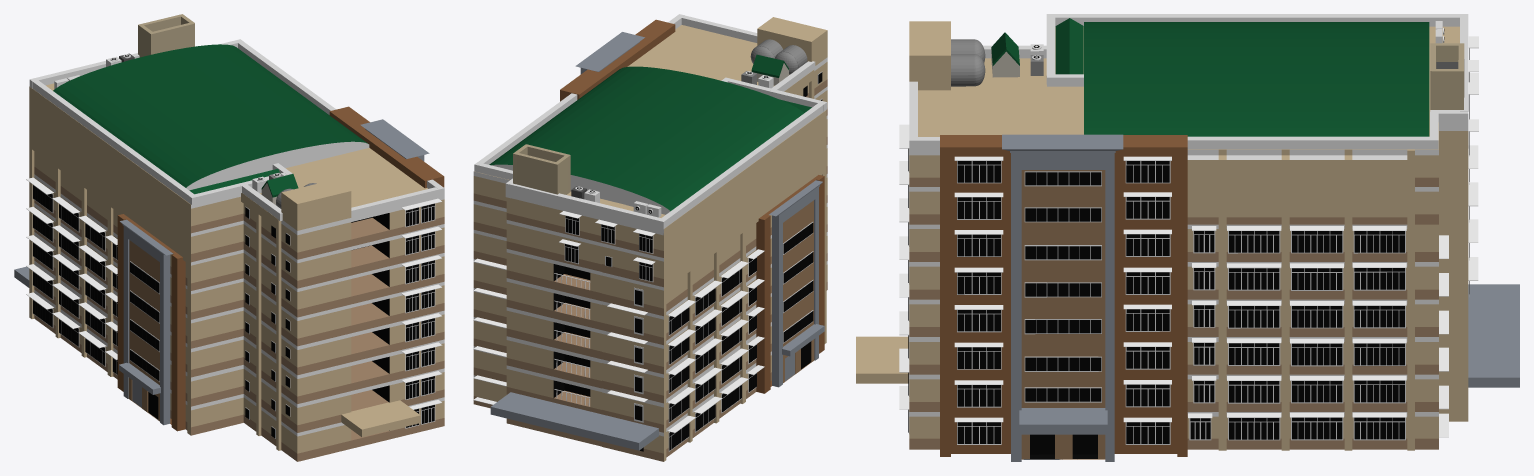
Rendered from og_bautista2.glb.
3 renders of one model, left to right at view 1: azimuth 30°, elevation 25°; view 2: azimuth 150°, elevation 25°; view 3: azimuth 270°, elevation 25°, orthographic. The views are drawn at different scales.
Visible parts, largest first — view 1: BAUTISTA; view 2: BAUTISTA; view 3: BAUTISTA.
Part boxes in pixels (x1,y1,x2,y2): BAUTISTA: (14,14,444,461); BAUTISTA: (473,14,827,461); BAUTISTA: (856,14,1519,461).
Size of the model in its own units: 3.53 by 3.48 by 6.02.
